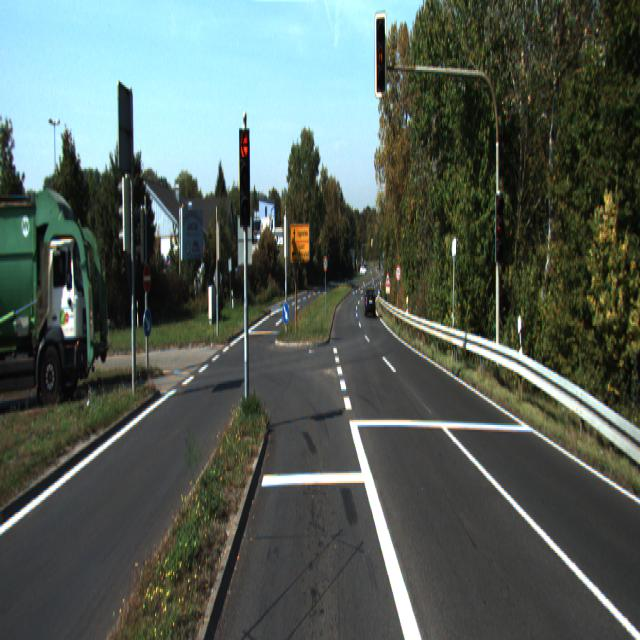Car: (0, 184, 112, 404), (364, 288, 376, 316)
